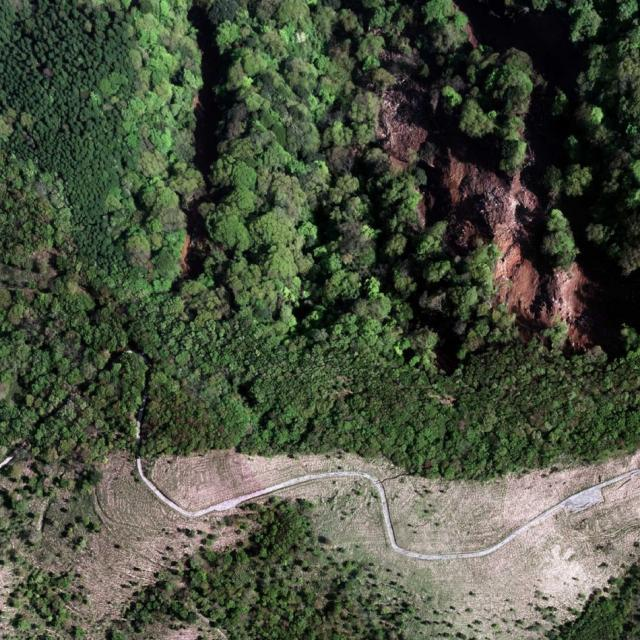landslide: (438, 148, 589, 324), (381, 90, 441, 166)
